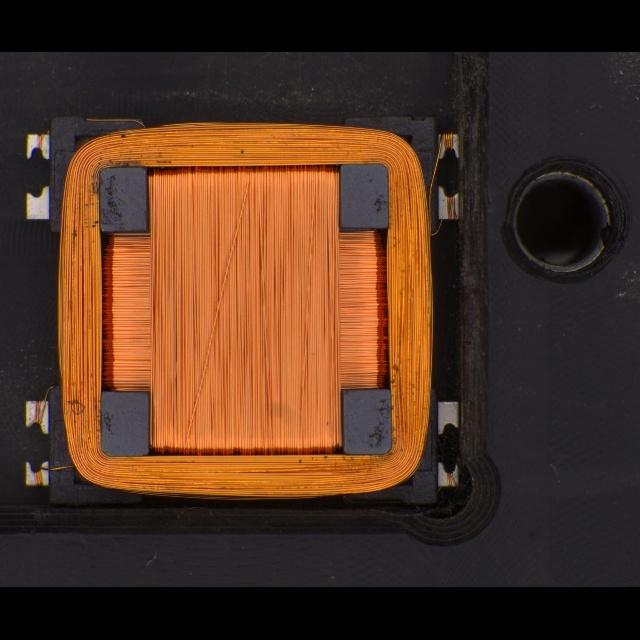Winding_Z: (53, 118, 436, 501)
